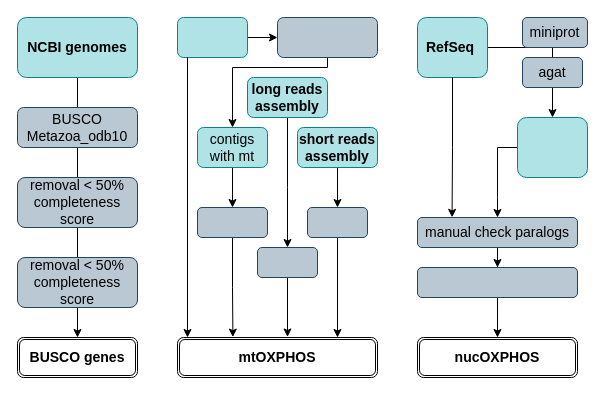
This 605x395 diagram has some shape labels left out. The shapes that lost their labels are listed below. From the top down, each one's centre as x and y in pixels, then its label:
At pixel 212 37: "mt NCBI".
At pixel 327 37: "blastn against genomes".
At pixel 552 147: "non-RefSeq".
At pixel 232 222: "MITOS".
At pixel 337 222: "Spades".
At pixel 287 262: "MitoHifi".
At pixel 497 282: "blast against nr db".
